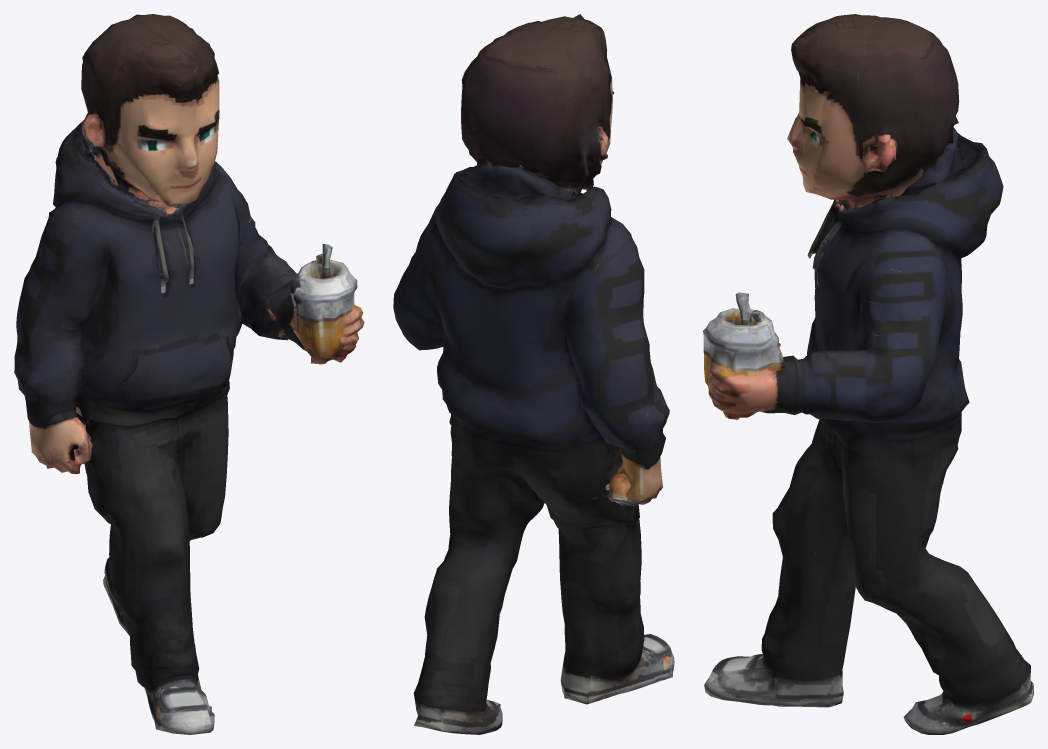
Rendered from coder.glb.
3 renders of one model, left to right at view 1: azimuth 30°, elevation 25°; view 2: azimuth 150°, elevation 25°; view 3: azimuth 270°, elevation 25°, orthographic. The views are drawn at different scales.
Size of the model in its own units: 0.8788 by 2.01 by 0.8862.
Materials: 1 (1 with a texture image).
